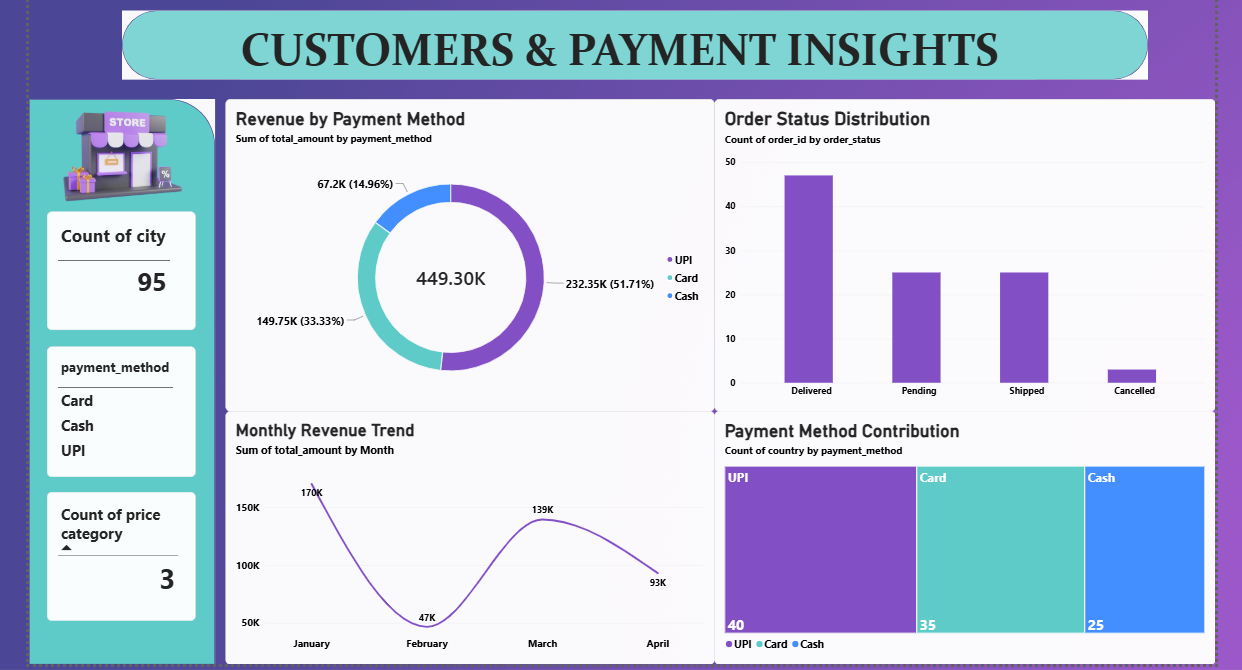

The page's visual inventory and layout, read from the dashboard file:
{"tool":"powerbi","page":{"name":"Customers & Payment Dashboard","canvas":[1920,1080],"ordinal":2},"visuals":[{"type":"shape","box":[0,165.2,301.2,915.7],"z":0},{"type":"donutChart","title":"Revenue by Payment Method","fields":{"Category":["retail_store orders.payment_method"],"Y":["Sum(retail_store orders.total_amount)"]},"box":[317.3,164.6,792.1,505.8],"z":1000},{"type":"lineStackedColumnComboChart","title":"Order Status Distribution","fields":{"Category":["retail_store orders.order_status"],"Y":["CountNonNull(retail_store orders.order_id)"]},"box":[1109.5,164.6,811.2,505.8],"z":2000},{"type":"lineChart","title":"Monthly Revenue Trend ","fields":{"Category":["retail_store orders.order_date.Variation.Date Hierarchy.Month"],"Y":["Sum(retail_store orders.total_amount)"]},"box":[317.3,670.4,792.1,410.4],"z":3000},{"type":"treemap","title":"Payment Method Contribution","fields":{"Group":["retail_store orders.payment_method"],"Values":["CountNonNull(retail_store products.country)"]},"box":[1109.5,670.4,811.2,410.4],"z":4000},{"type":"shape","box":[150.6,21.9,1661.3,111.7],"z":5000},{"type":"tableEx","fields":{"Values":["retail_store customers.city"]},"box":[29.1,347.3,240.5,191.9],"z":6000},{"type":"tableEx","fields":{"Values":["retail_store orders.payment_method"]},"box":[29.1,565.9,240.5,211.3],"z":7000},{"type":"tableEx","fields":{"Values":["retail_store products.price category"]},"box":[29.1,801.5,240.5,208.9],"z":8000},{"type":"image","box":[29.1,133.6,240.5,233.2],"z":9000},{"type":"textbox","box":[342.5,41.3,1289.7,92.3],"z":10000}]}

Visuals, with their boxes on the page's 1920x1080 design canvas (x1, y1, x2, y2). These are canvas units, not pixel positions in the 1242x670 screenshot, which may show the page scaled, cropped or inside an application window:
shape: l=0, t=165, r=301, b=1081
"Revenue by Payment Method" donutChart: l=317, t=165, r=1109, b=670
"Order Status Distribution" lineStackedColumnComboChart: l=1110, t=165, r=1921, b=670
"Monthly Revenue Trend " lineChart: l=317, t=670, r=1109, b=1081
"Payment Method Contribution" treemap: l=1110, t=670, r=1921, b=1081
shape: l=151, t=22, r=1812, b=134
tableEx - retail_store customers.city: l=29, t=347, r=270, b=539
tableEx - retail_store orders.payment_method: l=29, t=566, r=270, b=777
tableEx - retail_store products.price category: l=29, t=802, r=270, b=1010
image: l=29, t=134, r=270, b=367
textbox: l=342, t=41, r=1632, b=134
